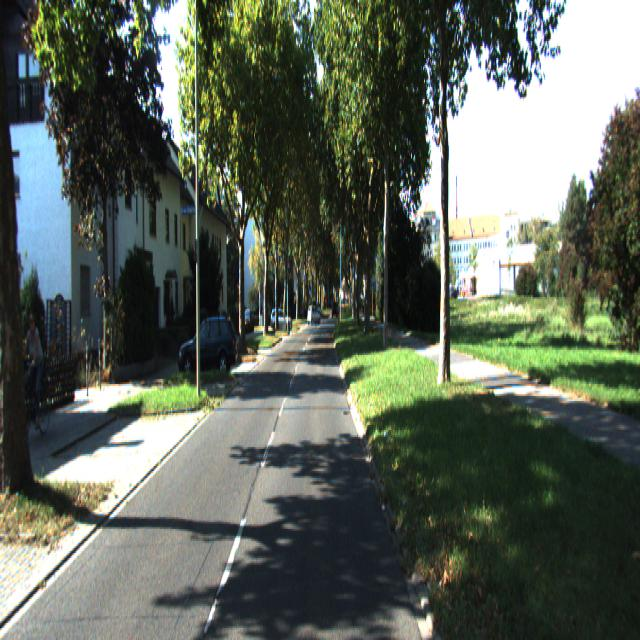Car: (177, 313, 238, 380)
